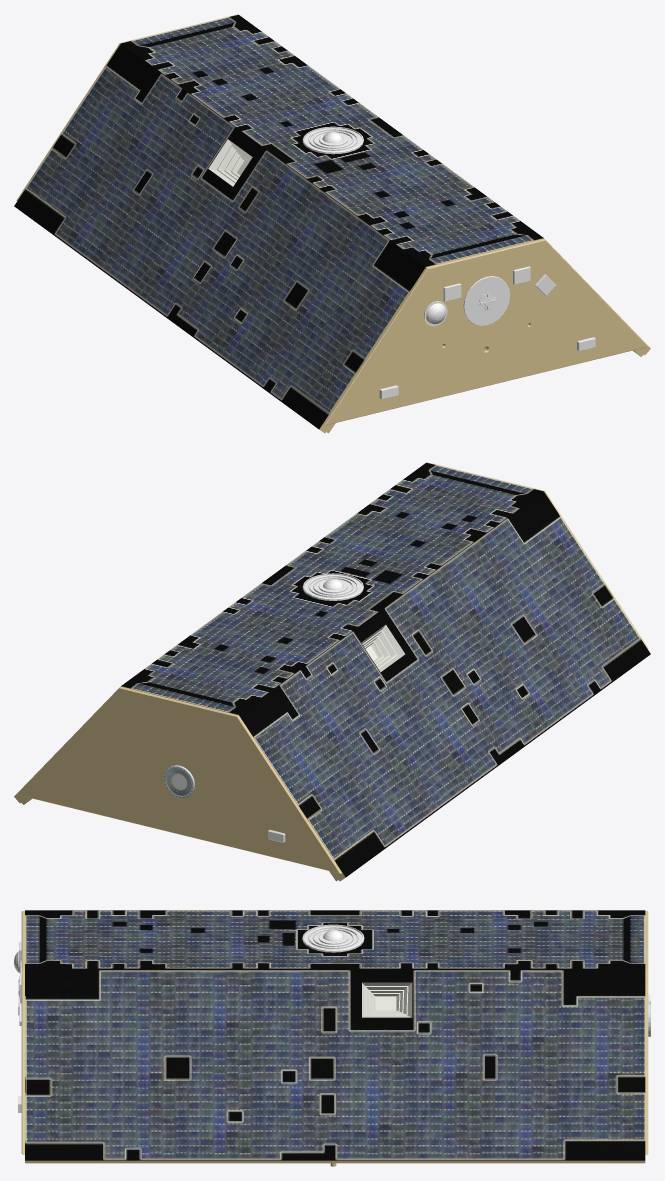
File: grace.glb
3 views of the same model, one above another, from view 1: azimuth 30°, elevation 25°; view 2: azimuth 150°, elevation 25°; view 3: azimuth 270°, elevation 25° (orthographic).
Visible parts, largest first — view 1: Mesh .006, Mesh .001, Mesh .005, Mesh .002, Mesh, Mesh .004; view 2: Mesh .006, Mesh .001, Mesh .002, Mesh; view 3: Mesh .006, Mesh .002, Mesh .001, Mesh.
Part boxes in pixels (x1,y1,x2,y2): Mesh .006: (14,14,543,429); Mesh .001: (16,14,648,425); Mesh .005: (463,276,510,325); Mesh .002: (208,139,650,433); Mesh: (302,126,363,154); Mesh .004: (379,266,595,399); Mesh .006: (121,462,650,877); Mesh .001: (16,462,648,873); Mesh .002: (14,624,405,881); Mesh: (302,573,363,600); Mesh .006: (25,910,650,1160); Mesh .002: (25,982,645,1163); Mesh .001: (21,911,648,1154); Mesh: (302,924,364,952).
Bounding box in the file's own units: 4.81 × 3.2 × 7.87.
9 materials, 1 textured.
